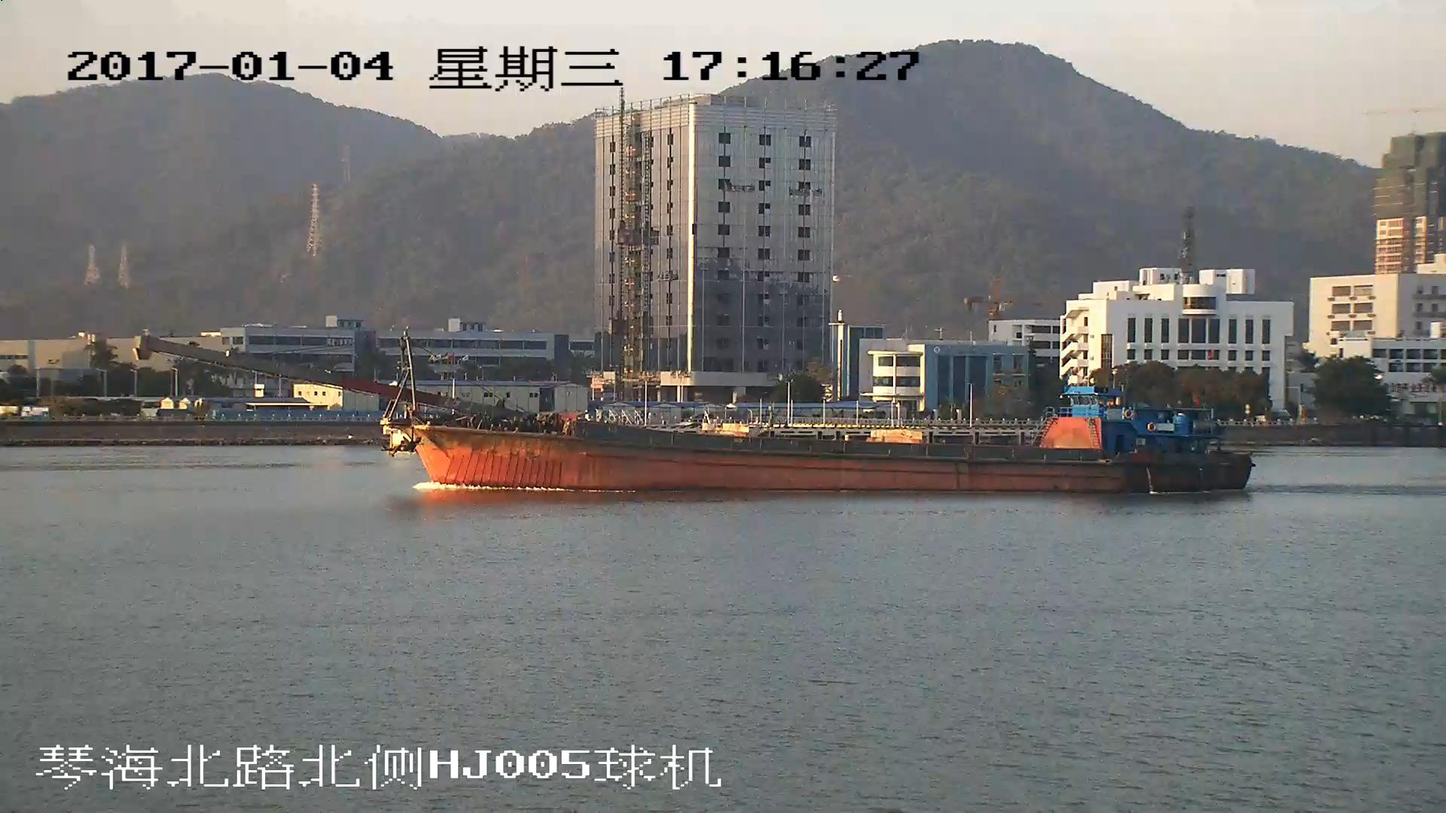bulk cargo carrier: (142, 336, 1249, 492)
